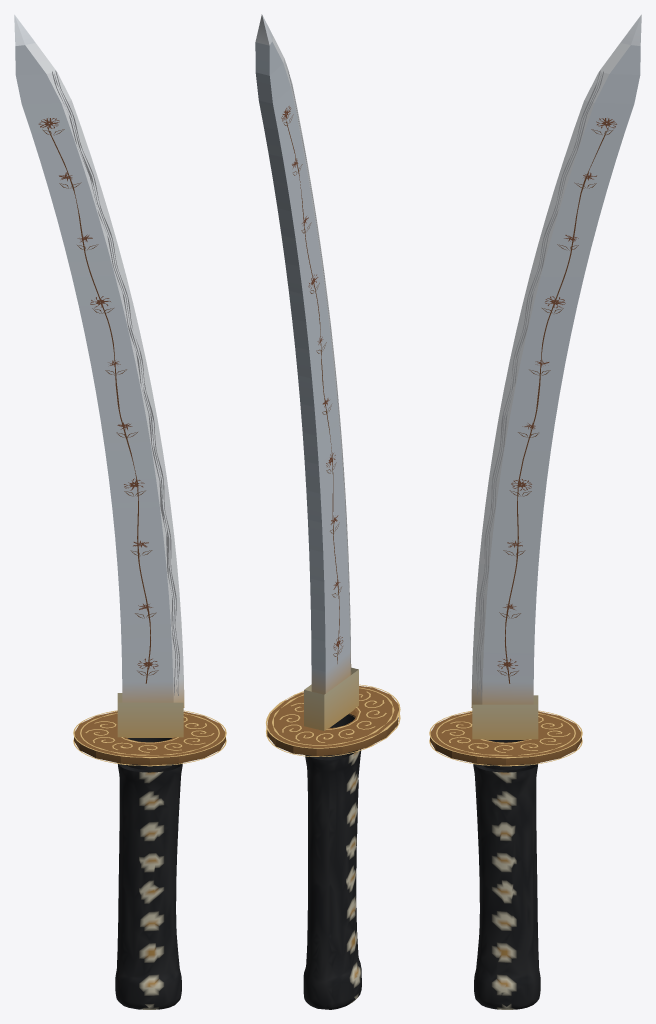
The model's file is weapon_blade_05.glb.
3 views of the same model, side by side, from view 1: azimuth 90°, elevation 25°; view 2: azimuth 150°, elevation 25°; view 3: azimuth 270°, elevation 25° (orthographic). The views are drawn at different scales.
Visible parts, largest first — view 1: weapon; view 2: weapon; view 3: weapon.
Boxes of the visible parts, x1,y1,x2,y2 form: weapon: [14, 14, 226, 1009]; weapon: [255, 14, 400, 1009]; weapon: [429, 14, 641, 1009].
Size of the model in its own units: 0.0854 by 0.784 by 0.1528.
